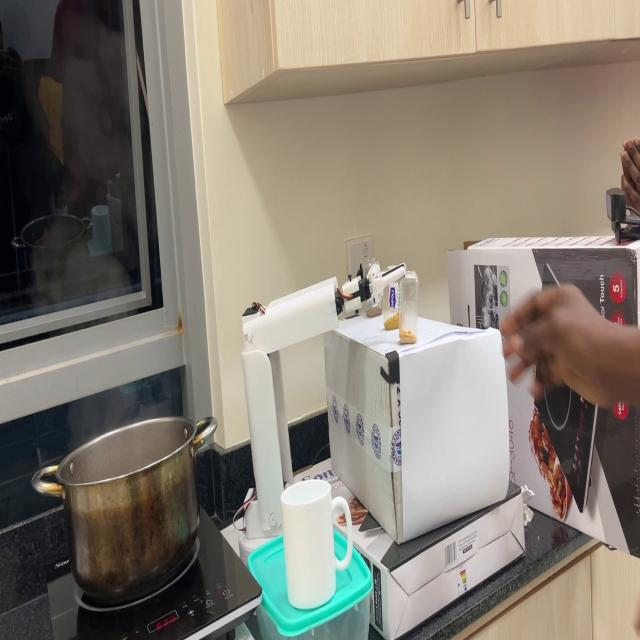cooking_pot: (31, 412, 218, 598)
curry_powder: (384, 313, 399, 328)
garlic_powder: (397, 325, 417, 345)
maggie_open: (364, 306, 382, 318)
